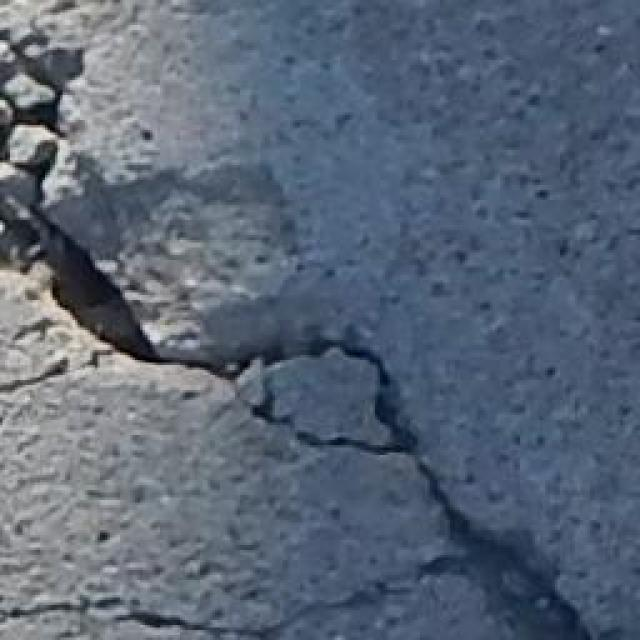concrete-crack: (0, 0, 632, 640)
